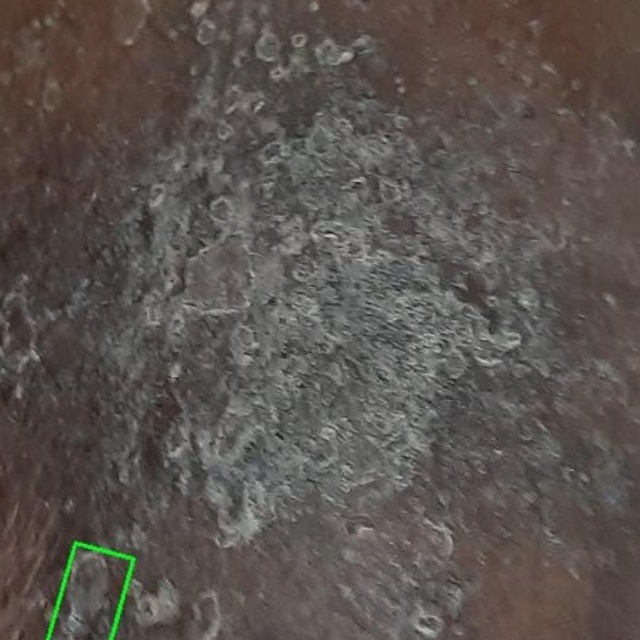Tinea Corporis: (48, 542, 134, 639)
